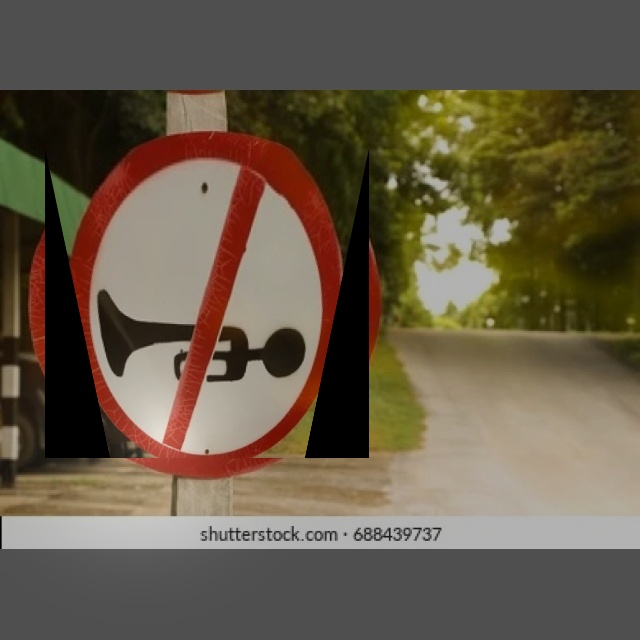Horn_Prohibited: (45, 148, 369, 458)
